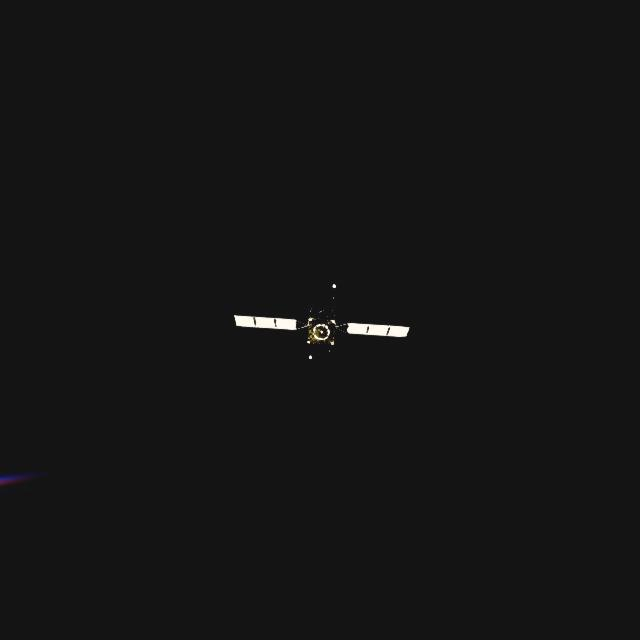medium_debris: (235, 283, 410, 360)
